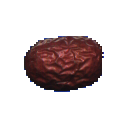gd: (16, 21, 126, 103)
